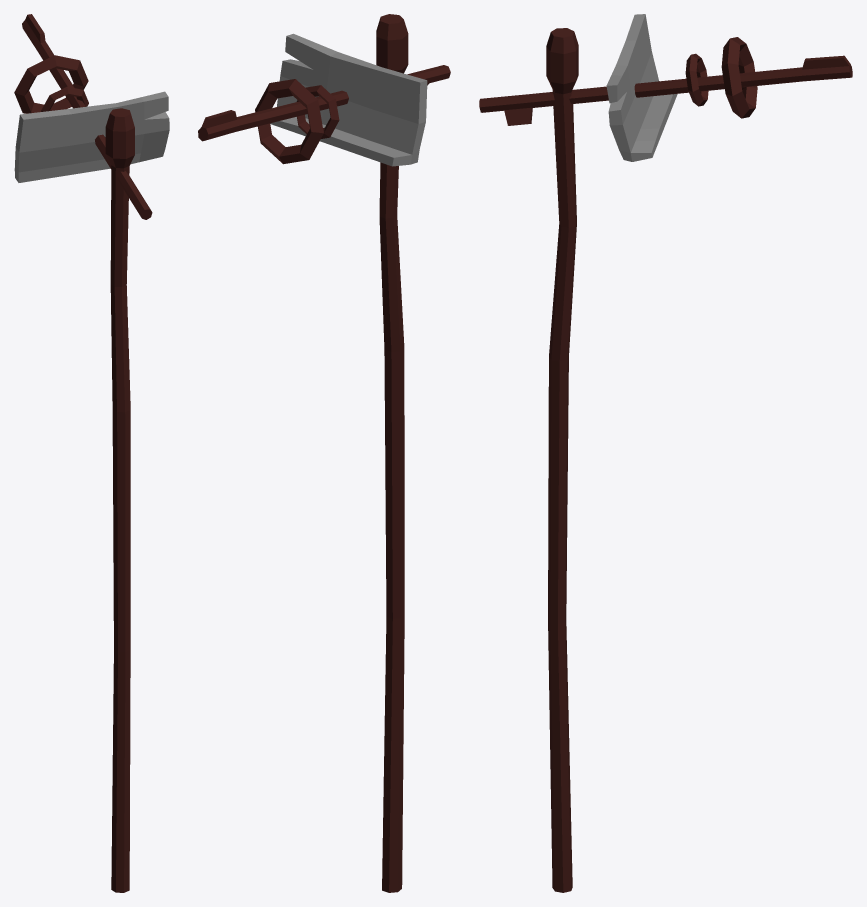
File: antenn.fbx
3 renders of one model, left to right at view 1: azimuth 30°, elevation 25°; view 2: azimuth 150°, elevation 25°; view 3: azimuth 270°, elevation 25°, orthographic. The views are drawn at different scales.
Visible parts, largest first — view 1: Cylinder.006; view 2: Cylinder.006; view 3: Cylinder.006.
Boxes of the visible parts, x1=… form: Cylinder.006: x1=14, y1=14, x2=169, y2=892; Cylinder.006: x1=198, y1=14, x2=450, y2=892; Cylinder.006: x1=479, y1=14, x2=852, y2=892.
Bounding box in the file's own units: 20.06 × 108 × 42.59.
